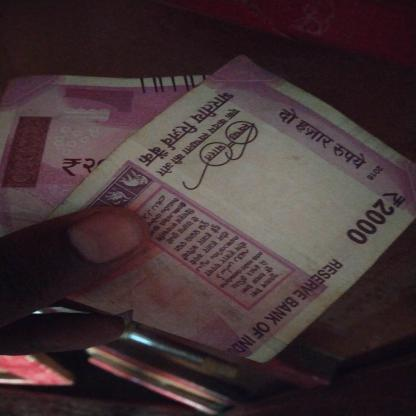New2000Back: (64, 69, 416, 351)
